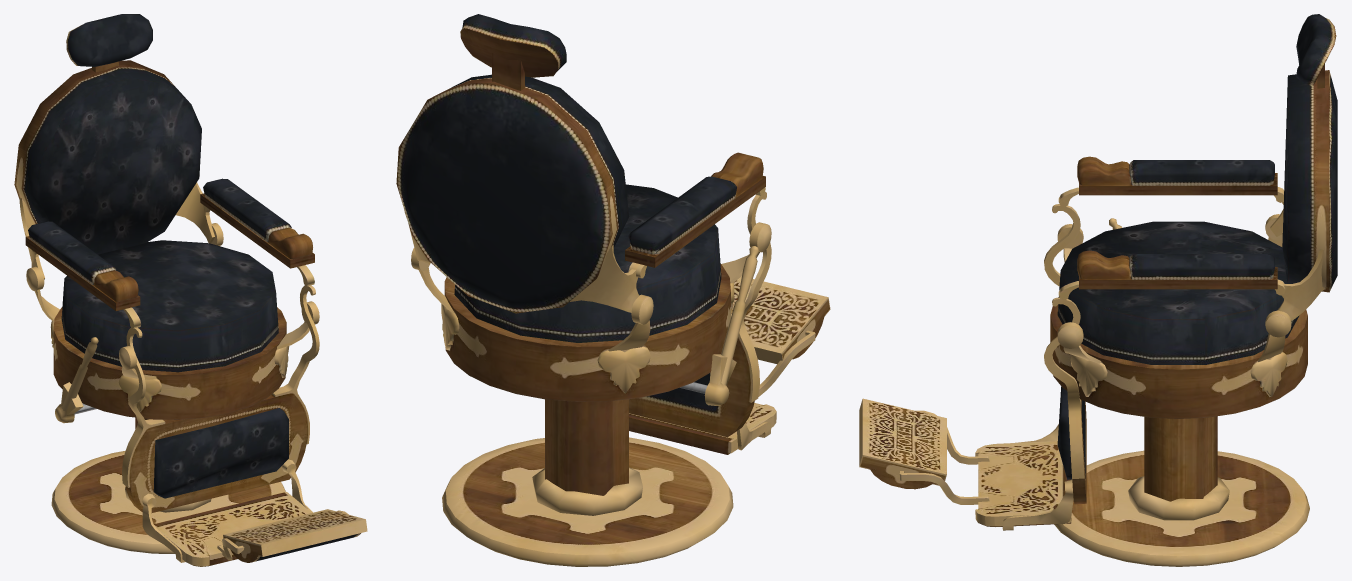
File: barber_chair.glb
3 views of the same model, side by side, from view 1: azimuth 30°, elevation 25°; view 2: azimuth 150°, elevation 25°; view 3: azimuth 270°, elevation 25° (orthographic). The views are drawn at different scales.
Visible parts, largest first — view 1: BarberShopChair_01; view 2: BarberShopChair_01; view 3: BarberShopChair_01.
Boxes of the visible parts, left/top/right/bottom form: BarberShopChair_01: left=14, top=14, right=367, bottom=566; BarberShopChair_01: left=396, top=14, right=830, bottom=566; BarberShopChair_01: left=859, top=14, right=1337, bottom=566.
Size of the model in its own units: 0.7566 by 1.49 by 1.33.
Materials: 1 (1 with a texture image).
